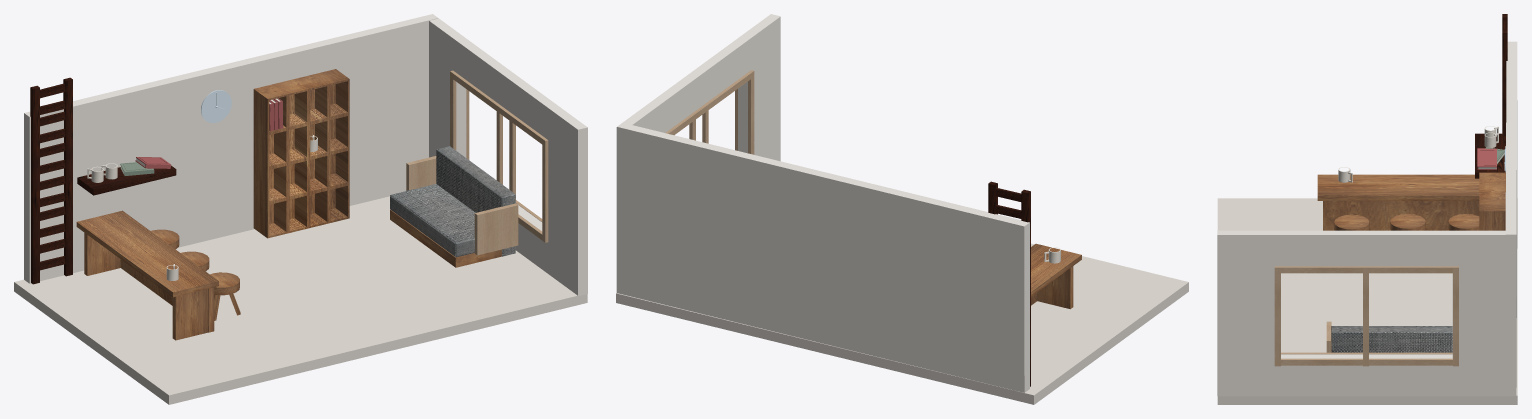
File: background.gltf
3 views of the same model, side by side, from view 1: azimuth 30°, elevation 25°; view 2: azimuth 150°, elevation 25°; view 3: azimuth 270°, elevation 25° (orthographic). The views are drawn at different scales.
Visible parts, largest first — view 1: Cube (×2), Cube.2, Cube.8, 바 테이블, Cube.9, Cube.16, Cube.17, Cube.1, Cube.21, 선반, Cube.15, Cube.20 (+6 smaller); view 2: Cube.2, Cube (×2), 바 테이블, Cube.22, Cube.20, Cube.23; view 3: Cube (×2), 바 테이블, Cube.16, Cube.2, Cube.8, Cube.26, Cube.27, Cube.21 (×2), Cube.20, Cube.28, Cube.24, Cube.25 (+5 smaller).
Boxes of the visible parts, left/top/right/bottom form: Cube (×2): left=14, top=18, right=587, bottom=404; Cube.2: left=24, top=14, right=438, bottom=283; Cube.8: left=253, top=69, right=349, bottom=238; 바 테이블: left=76, top=210, right=218, bottom=340; Cube.9: left=390, top=184, right=475, bottom=257; Cube.16: left=436, top=146, right=515, bottom=256; Cube.17: left=474, top=203, right=518, bottom=255; Cube.1: left=30, top=85, right=39, bottom=284; Cube.21: left=63, top=77, right=72, bottom=276; 선반: left=77, top=166, right=176, bottom=195; Cube.15: left=390, top=209, right=501, bottom=267; Cube.20: left=456, top=82, right=542, bottom=231; Cube.2: left=617, top=123, right=1029, bottom=392; Cube (×2): left=616, top=14, right=1188, bottom=404; 바 테이블: left=1031, top=243, right=1081, bottom=309; Cube.22: left=665, top=72, right=751, bottom=135; Cube.20: left=738, top=81, right=747, bottom=153; Cube.23: left=748, top=70, right=754, bottom=154; Cube (×2): left=1217, top=198, right=1517, bottom=404; 바 테이블: left=1317, top=174, right=1479, bottom=230; Cube.16: left=1331, top=326, right=1452, bottom=352; Cube.2: left=1505, top=41, right=1517, bottom=387; Cube.8: left=1479, top=172, right=1505, bottom=230; Cube.26: left=1281, top=358, right=1452, bottom=365; Cube.27: left=1281, top=266, right=1452, bottom=273; Cube.21 (×2): left=1281, top=29, right=1507, bottom=354; Cube.20: left=1281, top=354, right=1452, bottom=358; Cube.28: left=1274, top=266, right=1280, bottom=366; Cube.24: left=1363, top=266, right=1368, bottom=366; Cube.25: left=1453, top=266, right=1458, bottom=366.
Size of the model in its own units: 1384 by 644 by 882.
Materials: 11 (4 with a texture image).
